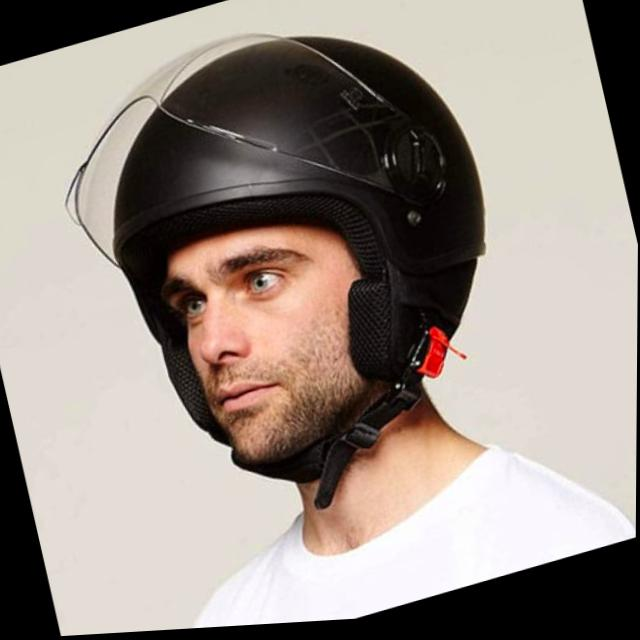helmet: (21, 0, 552, 580)
